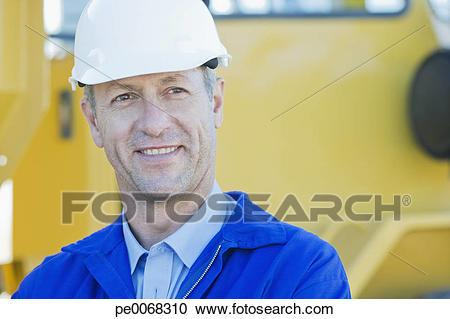helmet: (68, 1, 233, 93)
